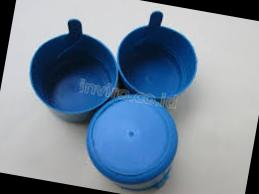Plastik: (84, 94, 177, 190), (28, 19, 118, 115), (115, 11, 198, 100)
